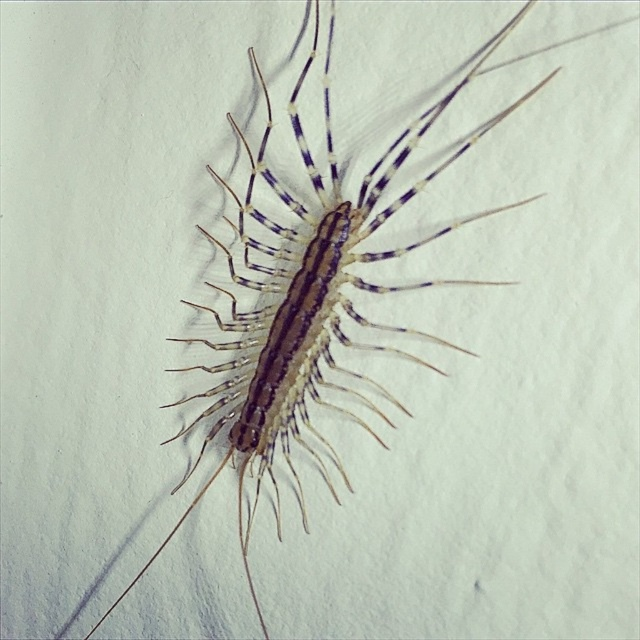Centipede: (80, 0, 639, 639)
